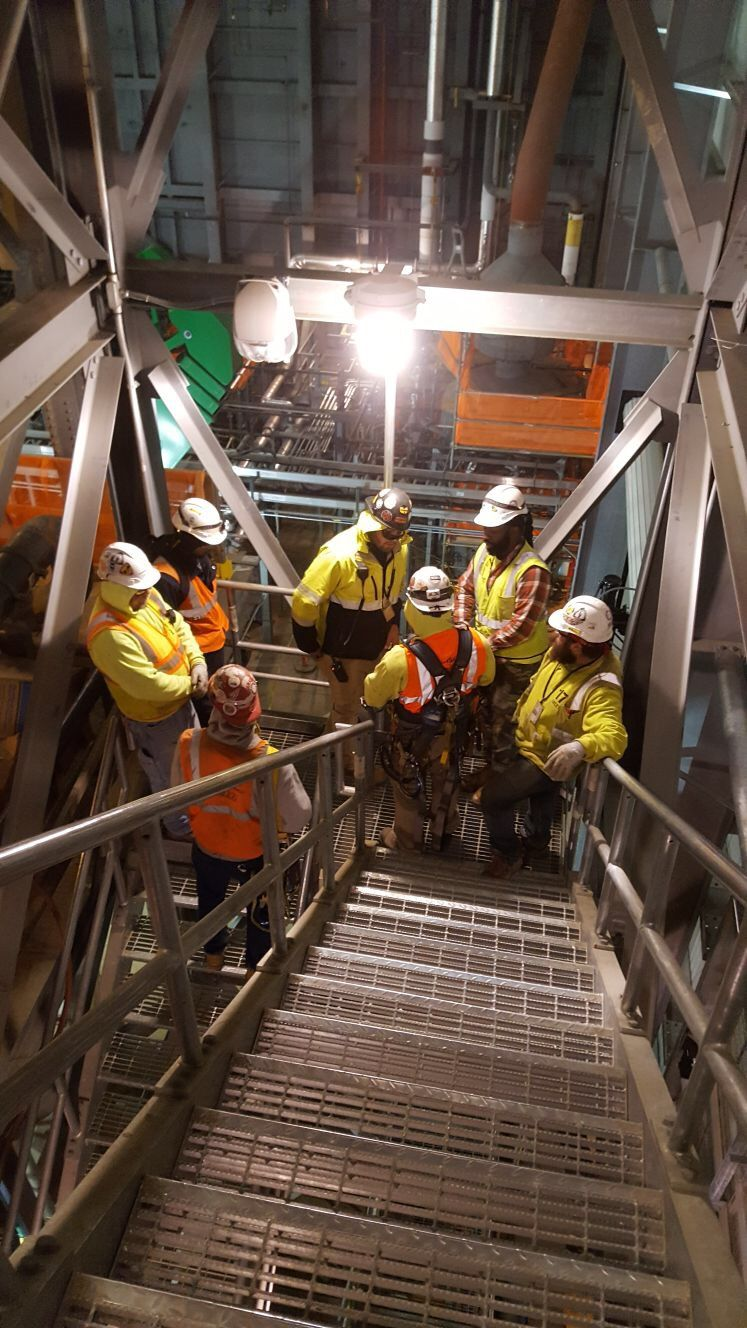hardhat: (464, 471, 535, 536), (200, 671, 260, 744), (350, 482, 427, 530), (88, 524, 136, 590), (556, 594, 614, 644), (387, 565, 456, 598), (186, 492, 223, 540)
person: (73, 517, 196, 915), (165, 671, 302, 998), (441, 438, 566, 796), (273, 467, 442, 719), (356, 573, 494, 844), (508, 596, 635, 890), (152, 467, 275, 715)
safety_vest: (296, 526, 417, 663), (175, 719, 285, 865), (82, 601, 181, 754), (512, 638, 612, 783), (163, 559, 260, 690), (400, 621, 485, 731), (454, 538, 535, 653)
